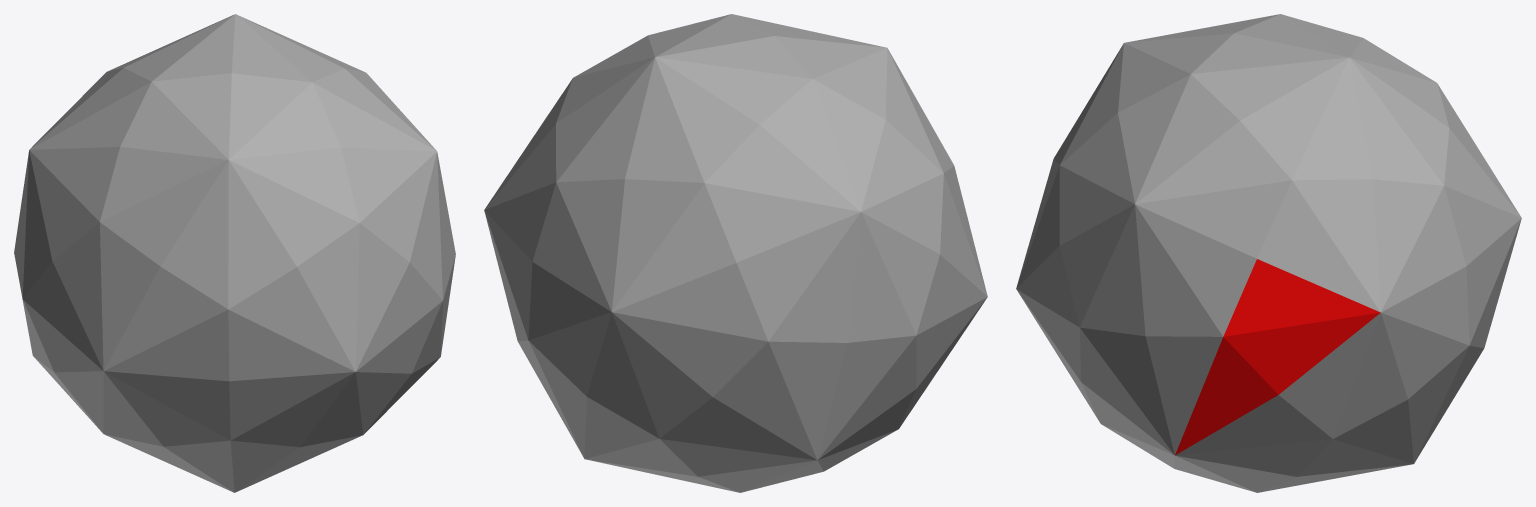
File: DisdyakisTriacontahedron2.glb
The picture shows the model from 3 angles, left to right: view 1: azimuth 30°, elevation 25°; view 2: azimuth 150°, elevation 25°; view 3: azimuth 270°, elevation 25°; orthographic projection. The views are drawn at different scales.
Size of the model in its own units: 7.58 by 7.69 by 8.17.
